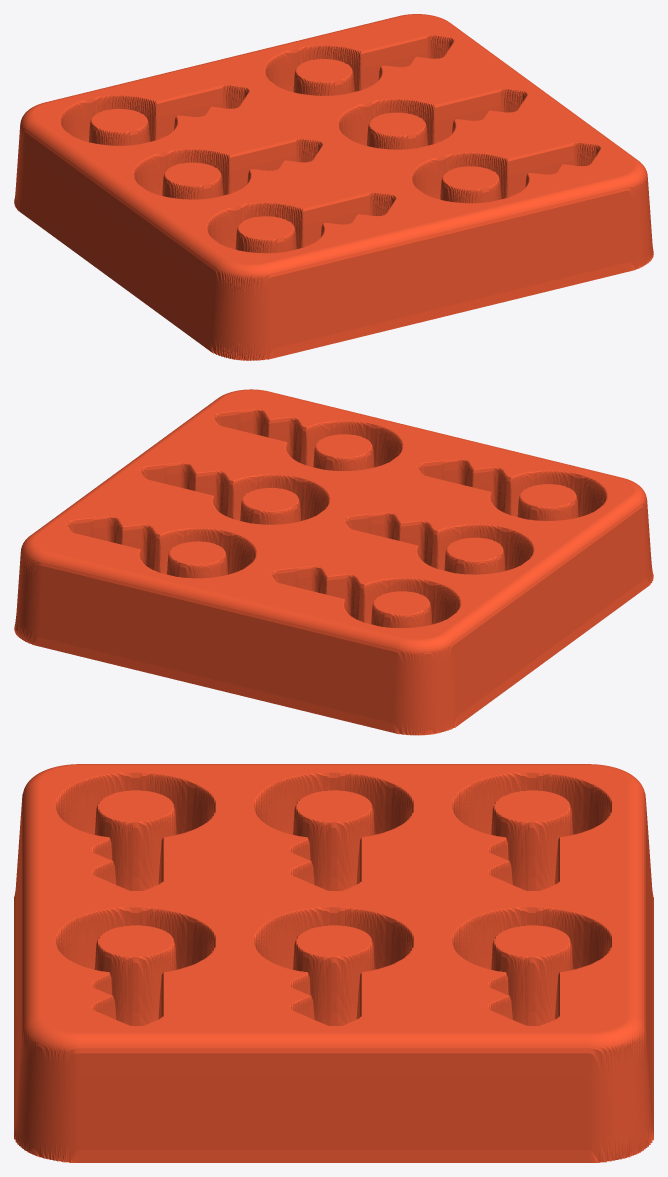
File: mold.glb
3 views of the same model, one above another, from view 1: azimuth 30°, elevation 25°; view 2: azimuth 150°, elevation 25°; view 3: azimuth 270°, elevation 25° (orthographic). The views are drawn at different scales.
Parts seen in each view (by area): view 1: geometry_0; view 2: geometry_0; view 3: geometry_0.
Part boxes in pixels (x1,y1,x2,y2): geometry_0: [14, 14, 653, 360]; geometry_0: [14, 389, 653, 735]; geometry_0: [14, 764, 653, 1162].
Bounding box in the file's own units: 0.0947 × 0.0182 × 0.0887.
